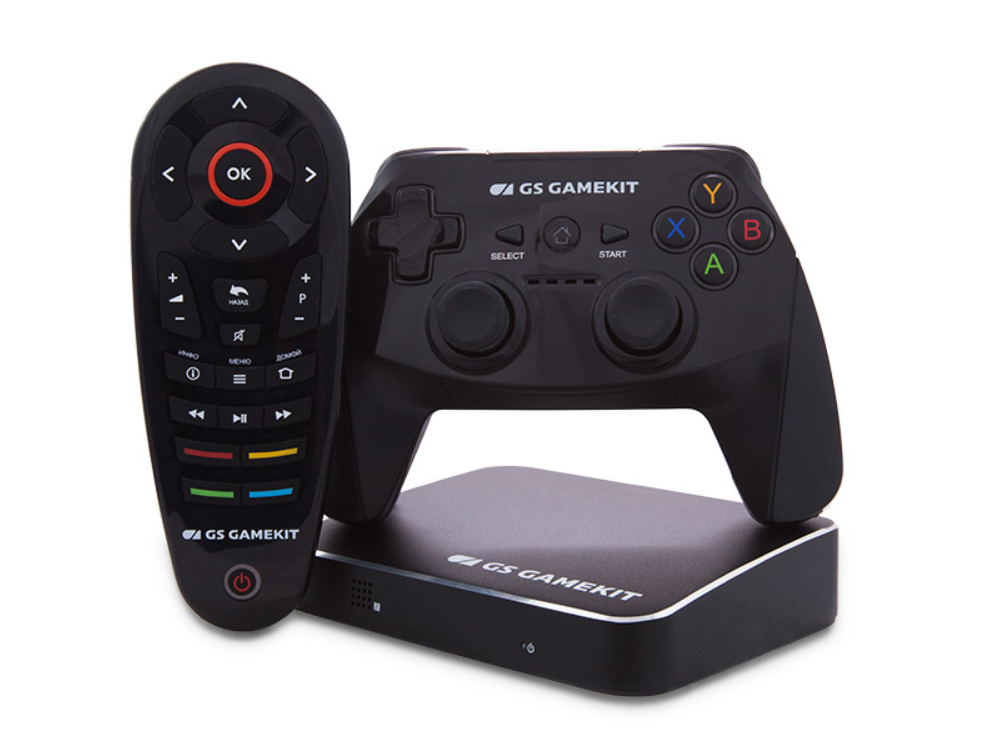gamingconsole: (346, 144, 844, 533)
